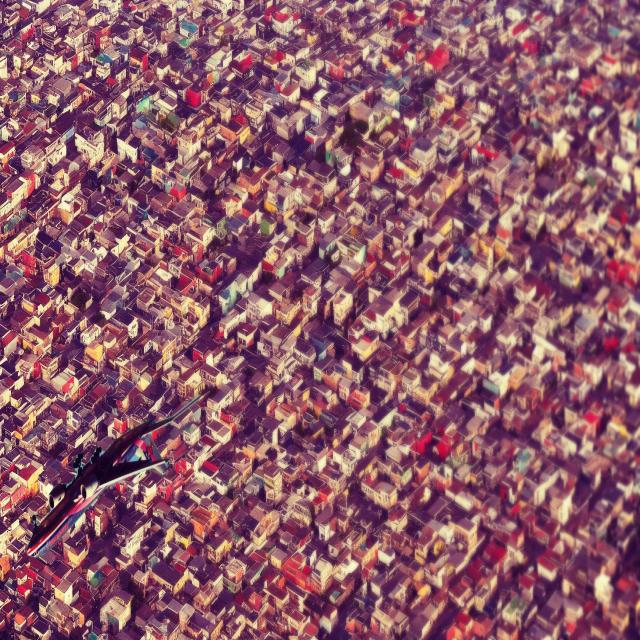airplane: (25, 388, 210, 560)
